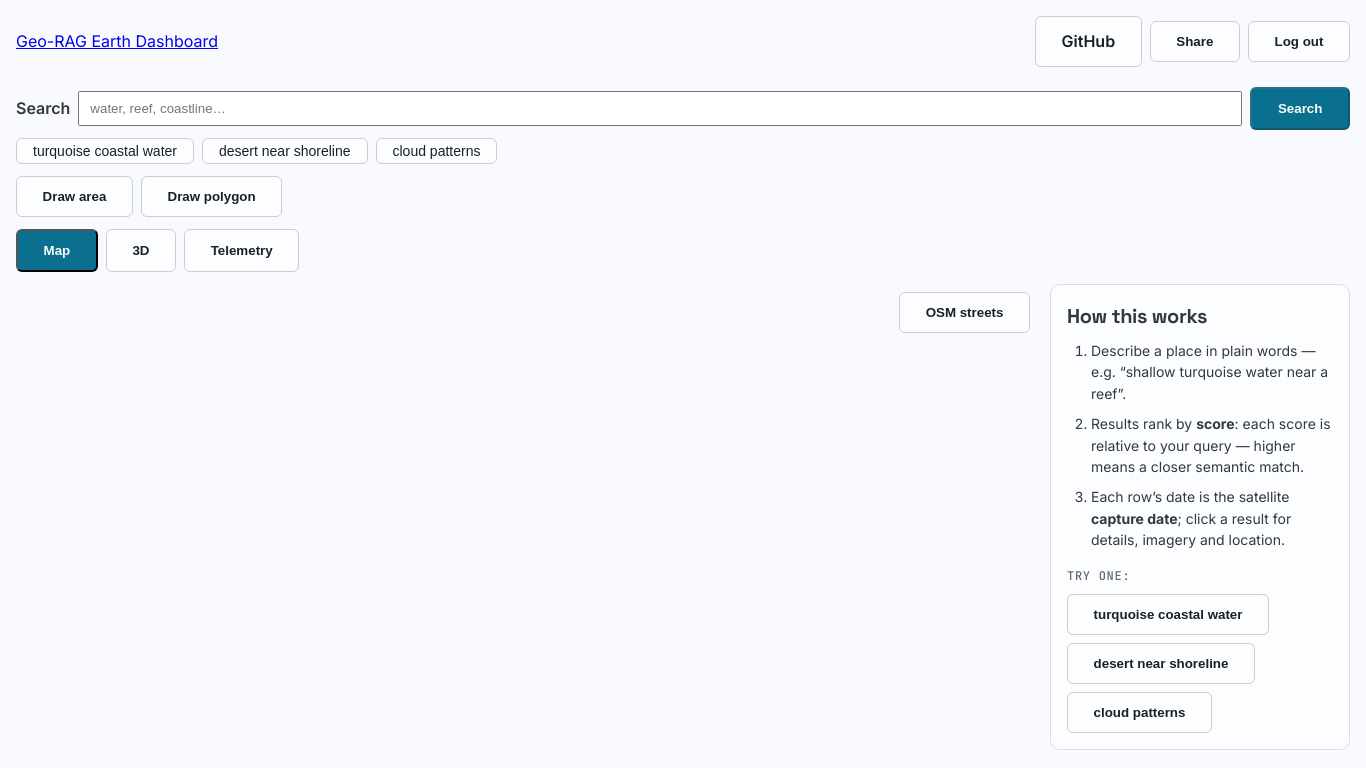
dashboard search UI › POSTs the query once to /api/search/vector and renders scores + dates
Type "water" into the search field labelled "Search" at {"x": 660, "y": 108}, box x1=78 y1=91 x2=1242 y2=126
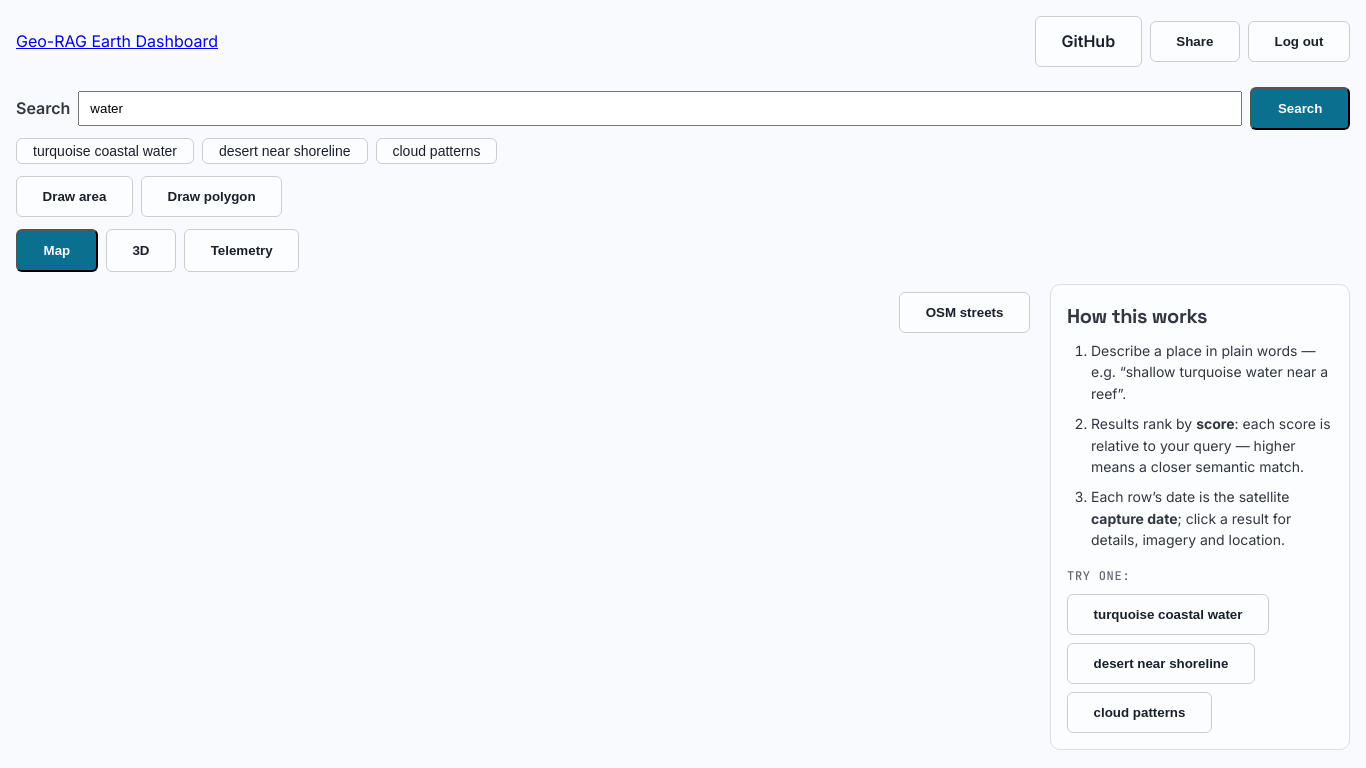
Click the button "Search" at {"x": 1300, "y": 108}, box x1=1250 y1=87 x2=1350 y2=130
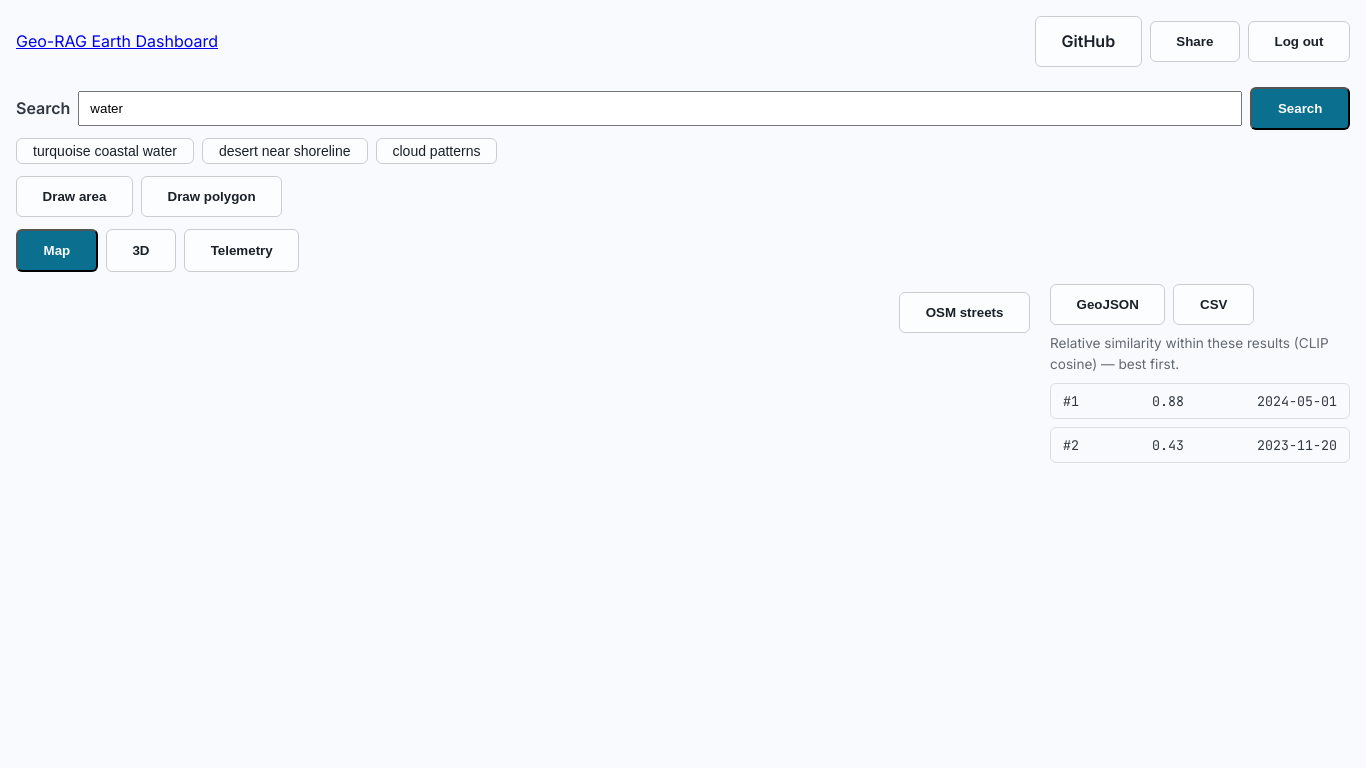
Check: the text "0.88" is shown, box x1=1152 y1=392 x2=1184 y2=410
Check: the text "0.43" is shown, box x1=1152 y1=436 x2=1184 y2=454
Check: the text "2024-05-01" is shown, box x1=1257 y1=392 x2=1337 y2=410
